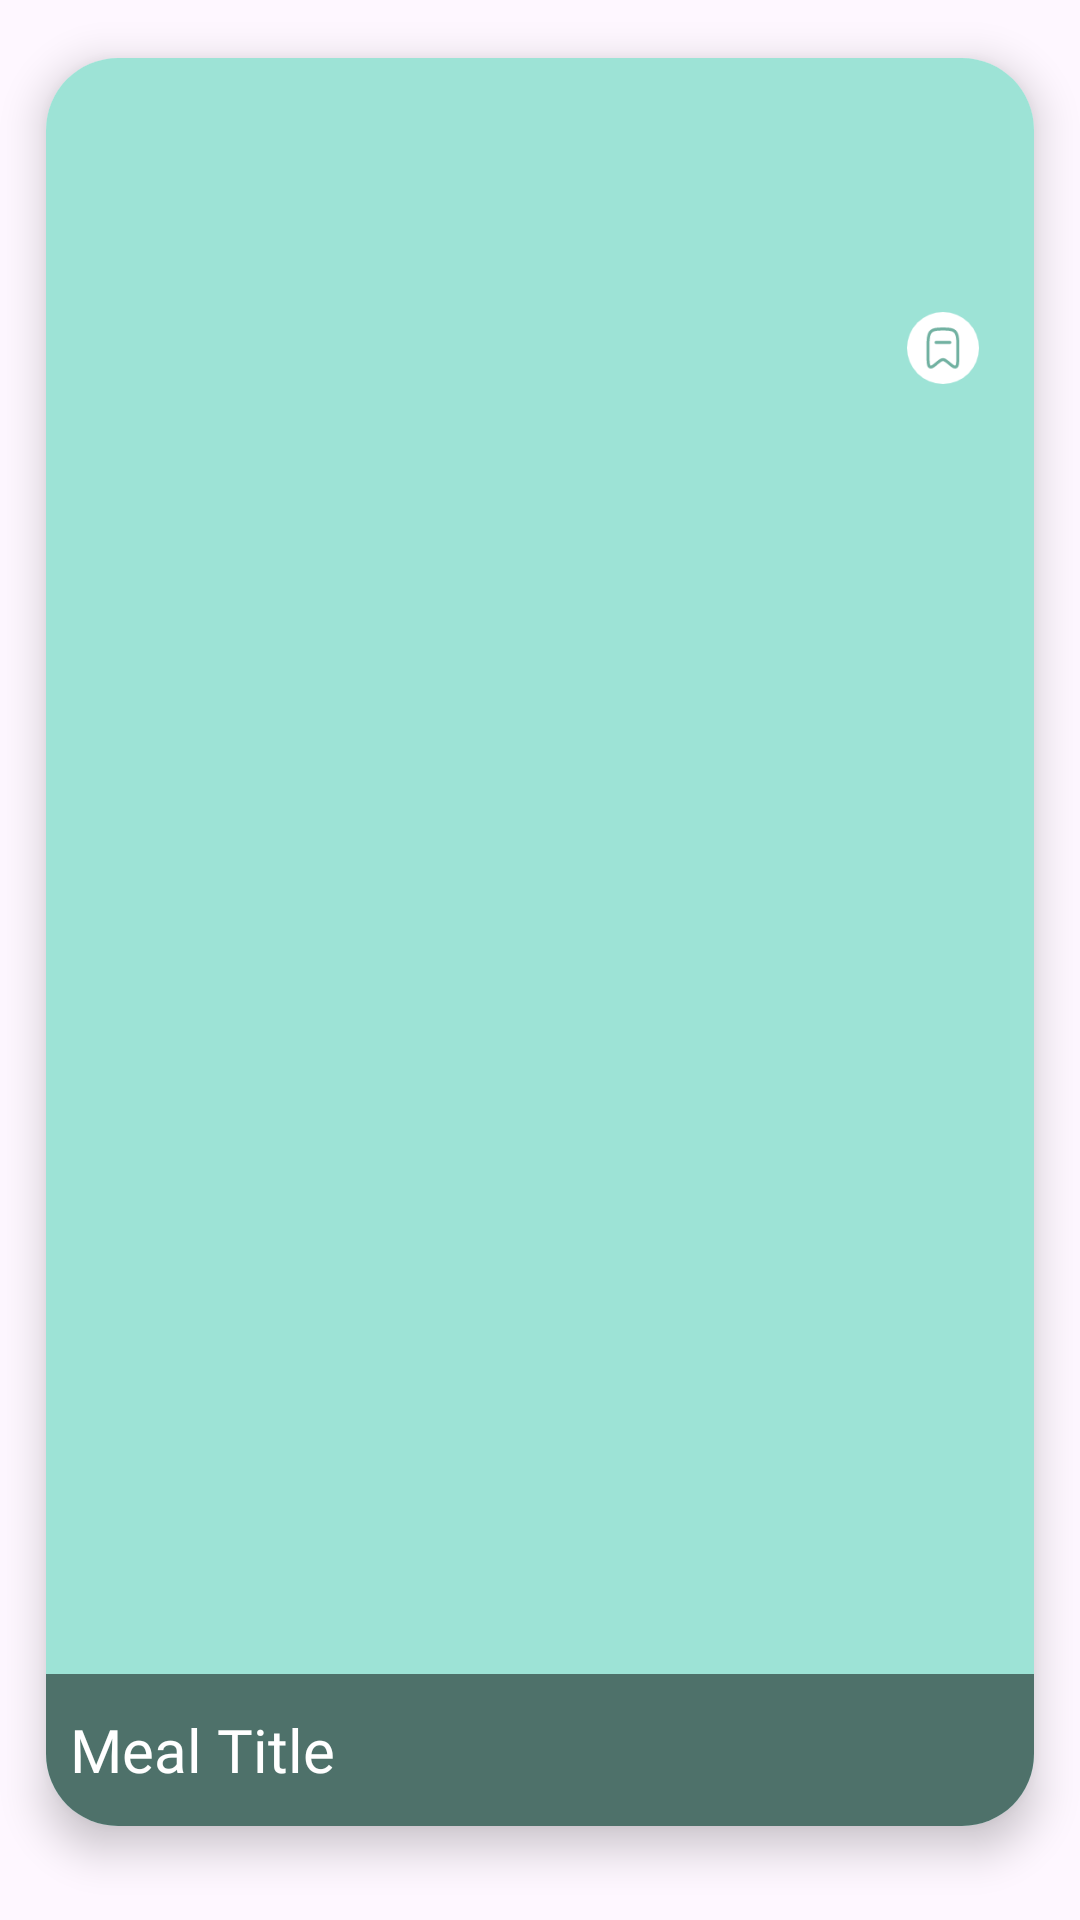

Point at icon controls on the screen. Image size 1080 x 1920, points as (x=x, y=y).
add to fav: (x=943, y=348)
